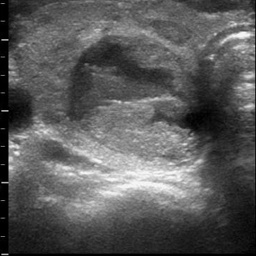mass: (71, 35, 200, 161)
